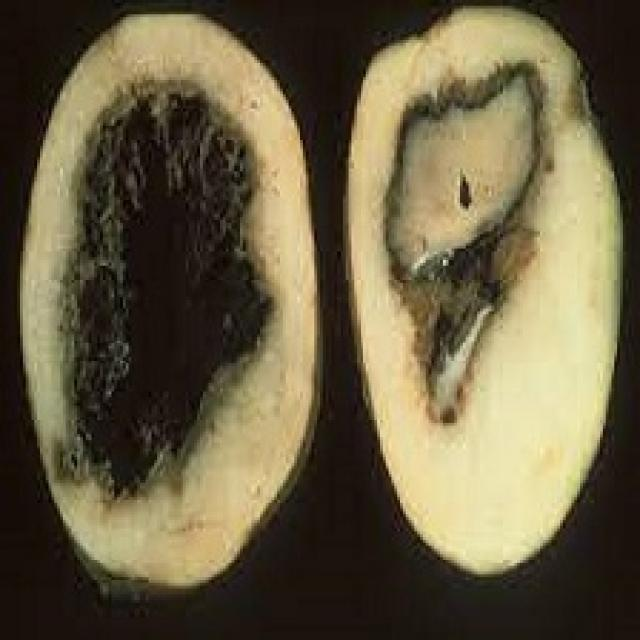blackleg: (20, 2, 332, 602), (339, 4, 634, 591)
